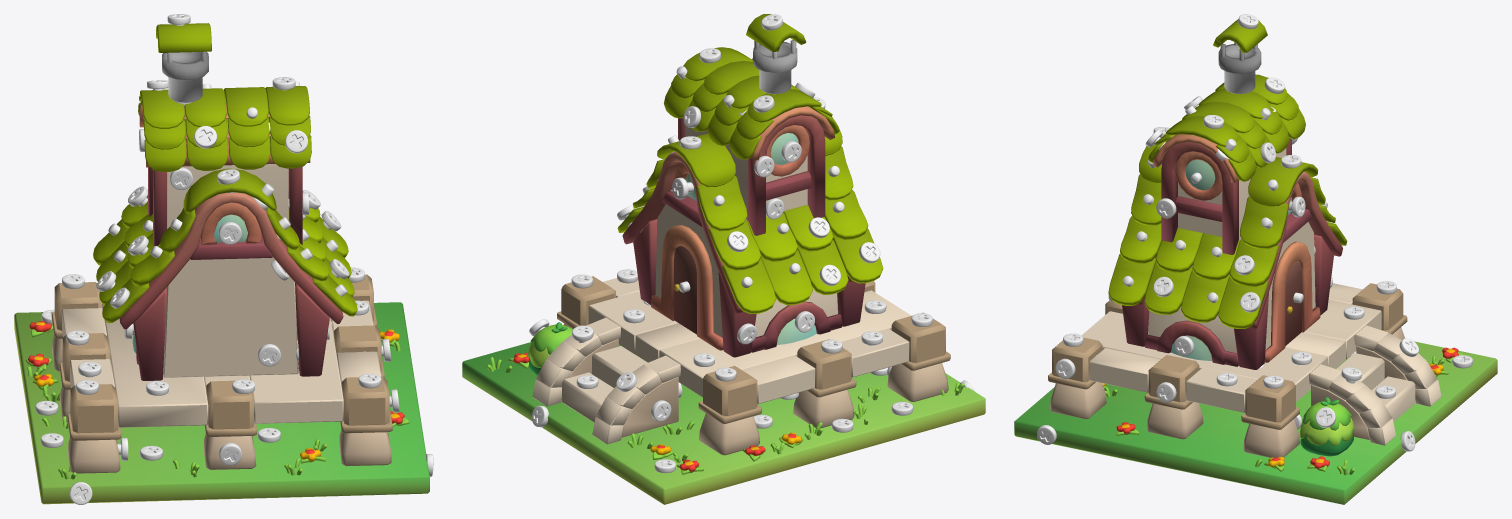
The model's file is Level_43.fbx.
3 views of the same model, side by side, from view 1: azimuth 30°, elevation 25°; view 2: azimuth 150°, elevation 25°; view 3: azimuth 270°, elevation 25° (orthographic). The views are drawn at different scales.
Visible parts, largest first — view 1: Cube_L2 21, Cube_L1 40, Cube_L2 18, Cube_L2 19, Cube_L1 38, Cube_L2 12, Cube_L2 10, Cube_L2 11, Cube_L1, Cube_L1 2, Cube_L1 4, Cube_L1 1 (+25 smaller); view 2: Cube_L2 21, Cube_L1 47, Cube_L2 18, Cube_L2 7, Cube_L1 9, Cube_L2 12, Cube_L2 13, Cube_L1, Cube_L2 4, Cube_L2, Cube_L1 4, Cube_L1 36 (+33 smaller); view 3: Cube_L2 21, Cube_L1 47, Cube_L1 7, Cube_L2 8, Cube_L2 19, Cube_L2 9, Cube_L2 10, Cube_L2, Cube_L1, Cube_L2 4, Cube_L1 1, Cube_L2 1 (+33 smaller).
Boxes of the visible parts, <box> form: Cube_L2 21: <box>14,302,429,504</box>; Cube_L1 40: <box>163,257,298,377</box>; Cube_L2 18: <box>102,304,208,427</box>; Cube_L2 19: <box>249,317,343,423</box>; Cube_L1 38: <box>119,192,343,329</box>; Cube_L2 12: <box>67,384,121,473</box>; Cube_L2 10: <box>339,376,392,466</box>; Cube_L2 11: <box>203,380,256,469</box>; Cube_L1: <box>156,23,211,102</box>; Cube_L1 2: <box>224,87,270,169</box>; Cube_L1 4: <box>138,89,186,171</box>; Cube_L1 1: <box>265,86,311,168</box>; Cube_L2 21: <box>462,342,985,504</box>; Cube_L1 47: <box>651,225,723,350</box>; Cube_L2 18: <box>659,290,911,397</box>; Cube_L2 7: <box>698,366,761,455</box>; Cube_L1 9: <box>748,115,825,235</box>; Cube_L2 12: <box>887,312,950,401</box>; Cube_L2 13: <box>793,339,856,428</box>; Cube_L1: <box>746,14,806,94</box>; Cube_L2 4: <box>592,355,680,444</box>; Cube_L2: <box>532,317,620,406</box>; Cube_L1 4: <box>729,89,839,159</box>; Cube_L1 36: <box>622,152,743,313</box>; Cube_L2 21: <box>1014,341,1497,504</box>; Cube_L1 47: <box>1264,241,1320,362</box>; Cube_L1 7: <box>1161,142,1238,254</box>; Cube_L2 8: <box>1241,375,1299,457</box>; Cube_L2 19: <box>1081,311,1327,401</box>; Cube_L2 9: <box>1144,355,1203,439</box>; Cube_L2 10: <box>1048,337,1106,418</box>; Cube_L2: <box>1309,364,1395,445</box>; Cube_L1: <box>1213,19,1267,93</box>; Cube_L2 4: <box>1354,325,1441,406</box>; Cube_L1 1: <box>1148,116,1256,181</box>; Cube_L2 1: <box>1299,397,1354,456</box>.
Size of the model in its own units: 8.09 by 7.08 by 8.27.
